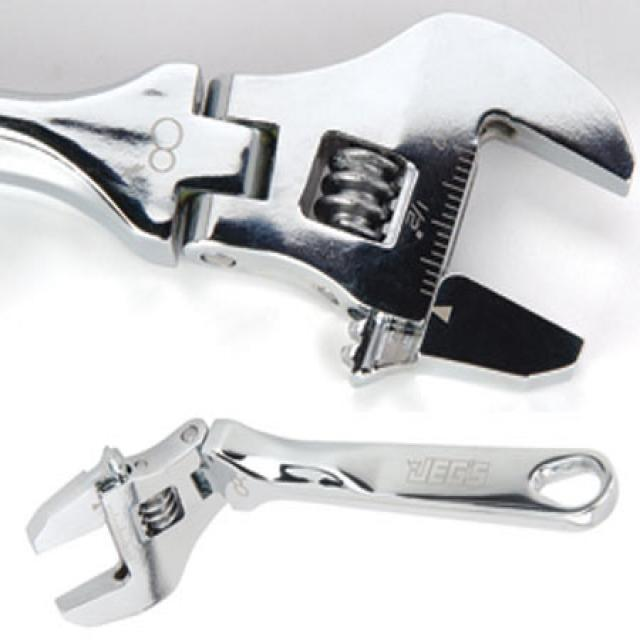wrench: (0, 0, 636, 398)
